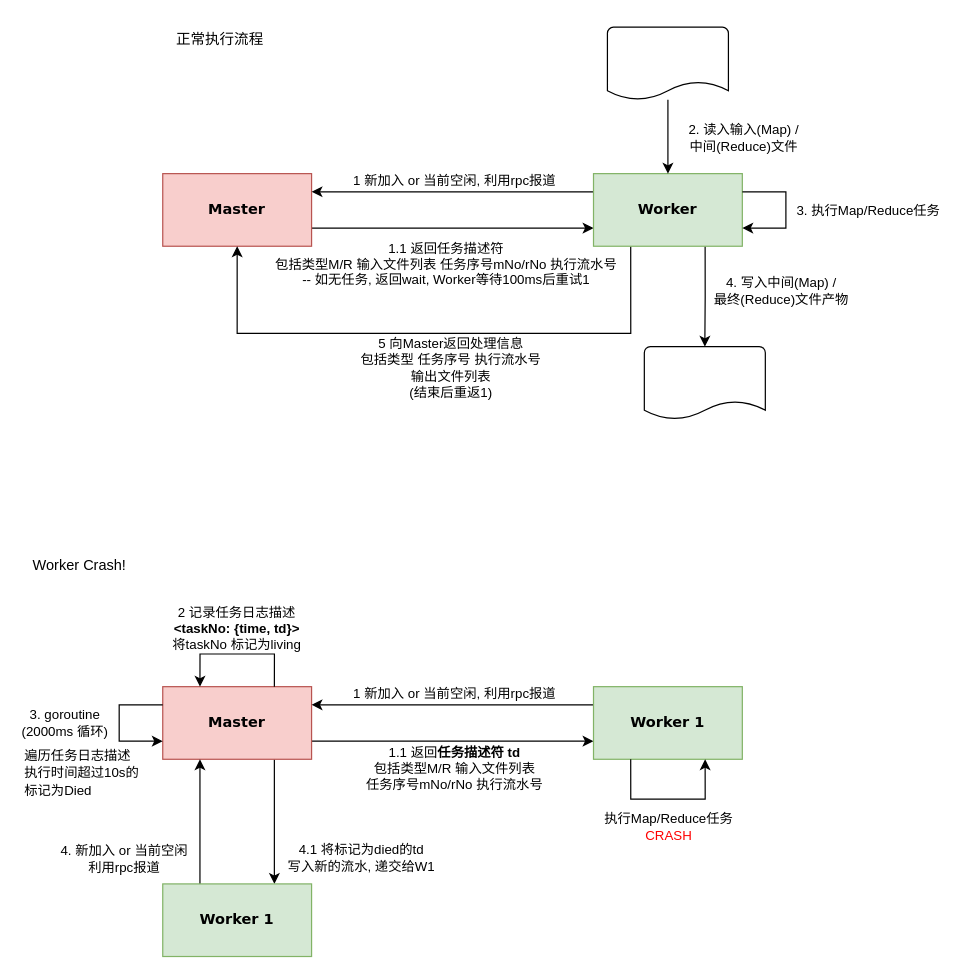
This 960x978 diagram has some shape labels left out. The shapes that lost their labels are listed below. From the top down, each one's centre as x and y in pixels, then its label:
At pixel 667 63: "Input / Intermediate File".
At pixel 704 382: "Intermediate / Output File".
